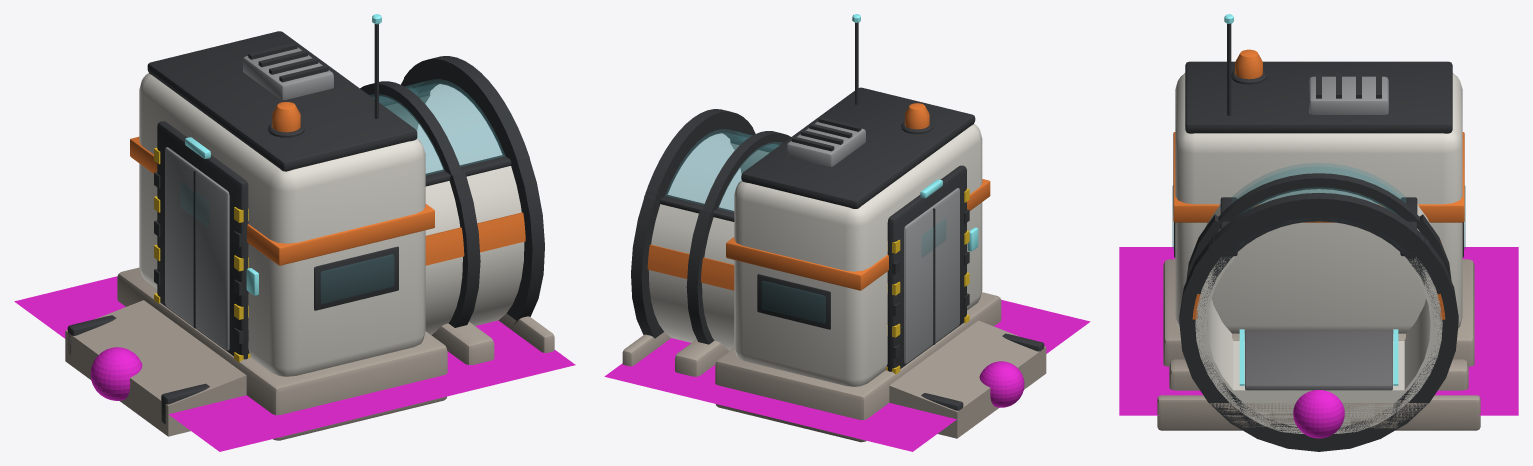
Rendered from airlock.gltf.
3 views of the same model, side by side, from view 1: azimuth 30°, elevation 25°; view 2: azimuth 150°, elevation 25°; view 3: azimuth 270°, elevation 25° (orthographic). The views are drawn at different scales.
Visible parts, largest first — view 1: Airlock, %P%Footprint, %P%AnchorOut; view 2: Airlock, %P%Footprint, %P%AnchorOut; view 3: Airlock, %P%Footprint, %P%AnchorIn.
Part boxes in pixels (left/top/right/bottom): Airlock: left=65, top=14, right=554, bottom=440; %P%Footprint: left=14, top=276, right=575, bottom=451; %P%AnchorOut: left=90, top=347, right=142, bottom=400; Airlock: left=622, top=14, right=1046, bottom=442; %P%Footprint: left=604, top=299, right=1090, bottom=451; %P%AnchorOut: left=979, top=361, right=1024, bottom=407; Airlock: left=1157, top=14, right=1480, bottom=451; %P%Footprint: left=1119, top=247, right=1518, bottom=415; %P%AnchorIn: left=1293, top=390, right=1344, bottom=438.
Size of the model in its own units: 2.25 by 2.04 by 2.
